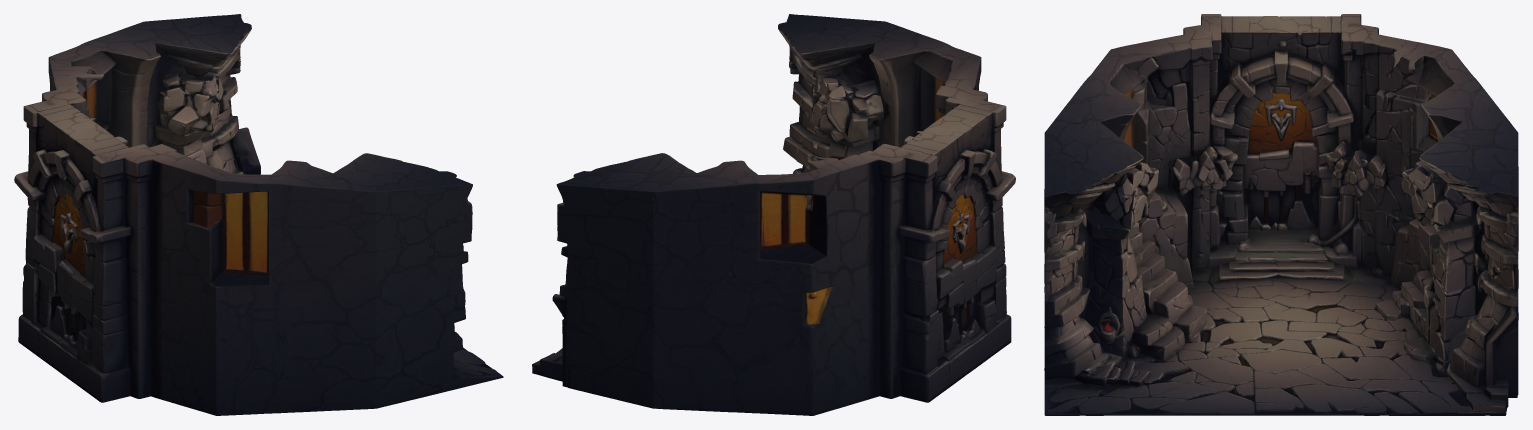
The model's file is cenario_3d_torre.draco.glb.
3 renders of one model, left to right at view 1: azimuth 30°, elevation 25°; view 2: azimuth 150°, elevation 25°; view 3: azimuth 270°, elevation 25°, orthographic.
Parts seen in each view (by area): view 1: tripo_node_894a8c8c-9b9d-4e37-8110-bd797c1e9a52; view 2: tripo_node_894a8c8c-9b9d-4e37-8110-bd797c1e9a52; view 3: tripo_node_894a8c8c-9b9d-4e37-8110-bd797c1e9a52.
Boxes of the visible parts, left/top/right/bottom form: tripo_node_894a8c8c-9b9d-4e37-8110-bd797c1e9a52: left=14, top=14, right=503, bottom=415; tripo_node_894a8c8c-9b9d-4e37-8110-bd797c1e9a52: left=532, top=14, right=1015, bottom=415; tripo_node_894a8c8c-9b9d-4e37-8110-bd797c1e9a52: left=1044, top=14, right=1518, bottom=415.
Bounding box in the file's own units: 1.2 × 0.8162 × 1.45.
Materials: 1 (1 with a texture image).
